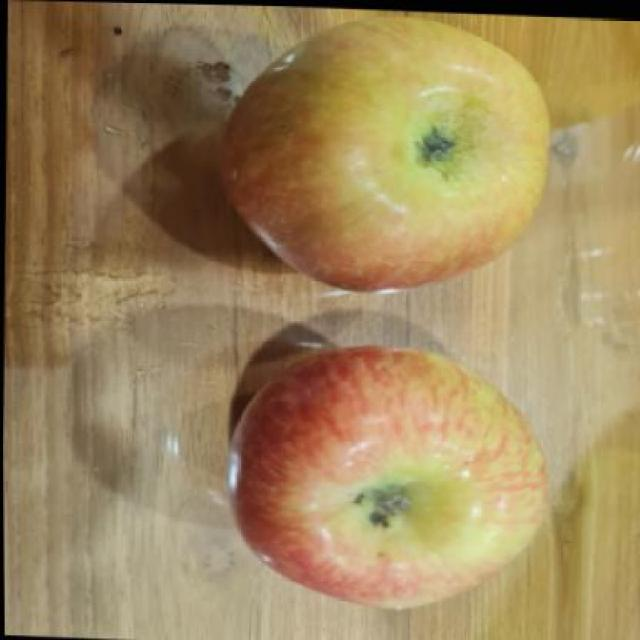Fresh Apple: (221, 24, 552, 287), (231, 347, 552, 602)
